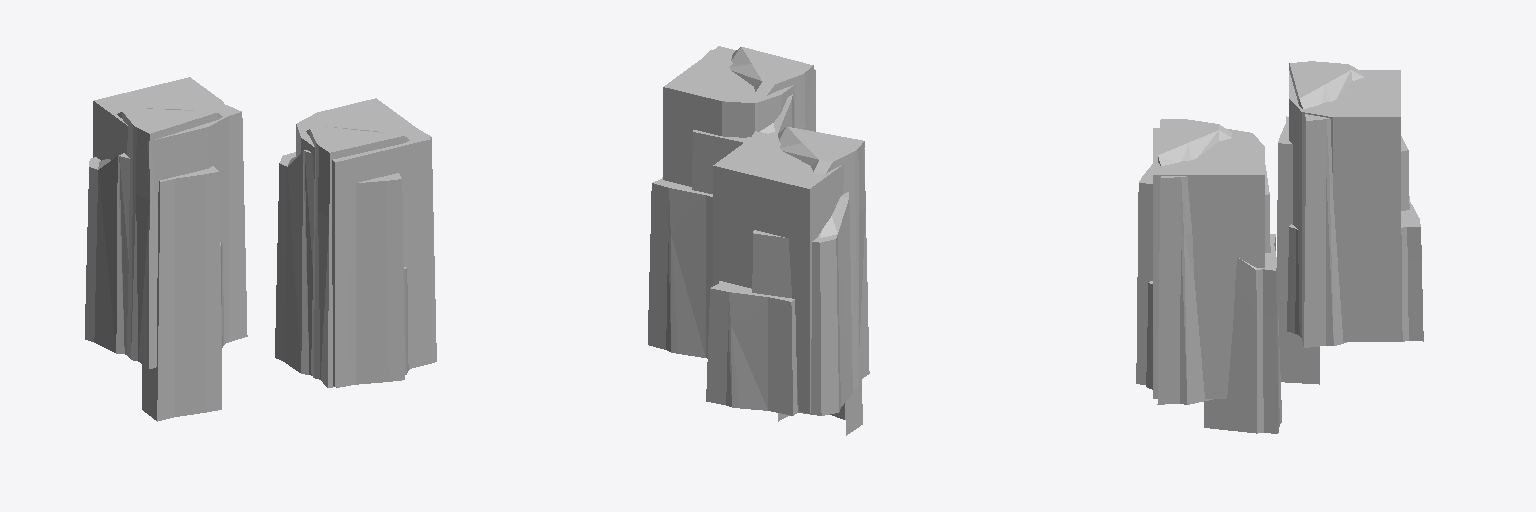
The model's file is cliff_1010_1010.obj.
3 renders of one model, left to right at view 1: azimuth 30°, elevation 25°; view 2: azimuth 150°, elevation 25°; view 3: azimuth 270°, elevation 25°, orthographic.
Visible parts, largest first — view 1: tile_1010_1010; view 2: tile_1010_1010; view 3: tile_1010_1010.
Boxes of the visible parts, x1=… form: tile_1010_1010: x1=85, y1=77, x2=436, y2=421; tile_1010_1010: x1=648, y1=46, x2=869, y2=435; tile_1010_1010: x1=1136, y1=61, x2=1423, y2=433.
Bounding box in the file's own units: 2.26 × 2.55 × 2.32.